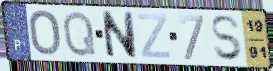7: (178, 13, 205, 61)
N: (100, 9, 139, 60)
O: (27, 8, 62, 57)
Q: (62, 9, 98, 59)
S: (209, 14, 245, 63)
Z: (136, 13, 172, 60)
